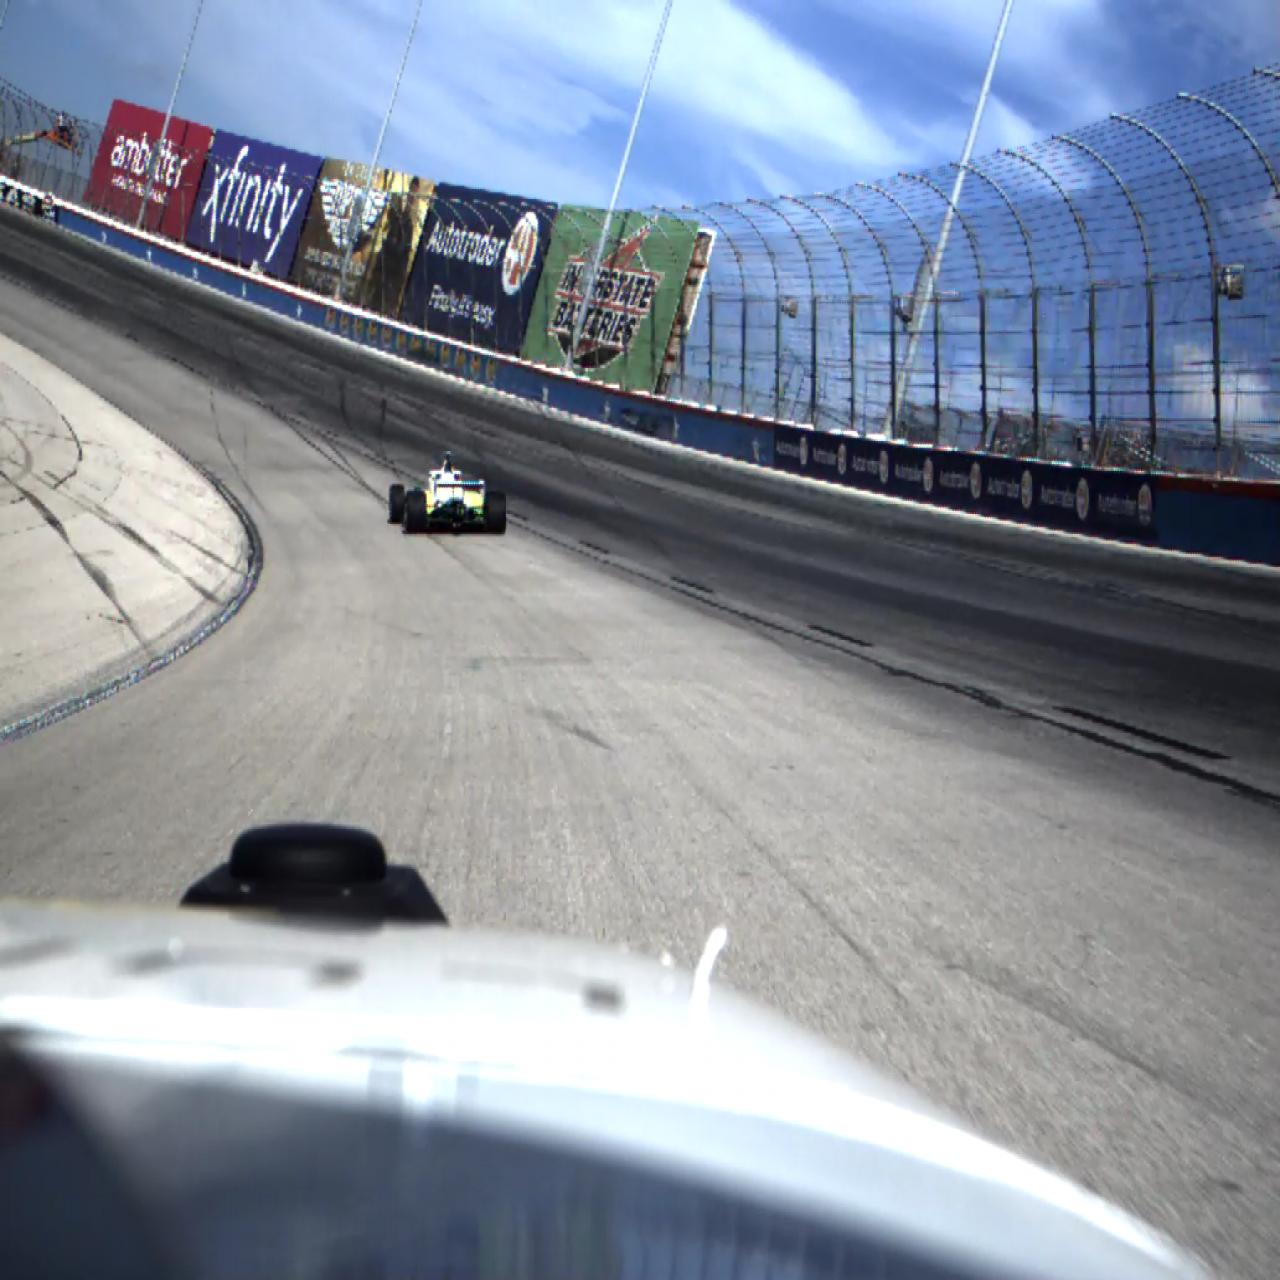AV: (388, 450, 506, 535)
Wheel: (485, 491, 506, 535), (407, 491, 427, 535), (389, 484, 406, 524)
